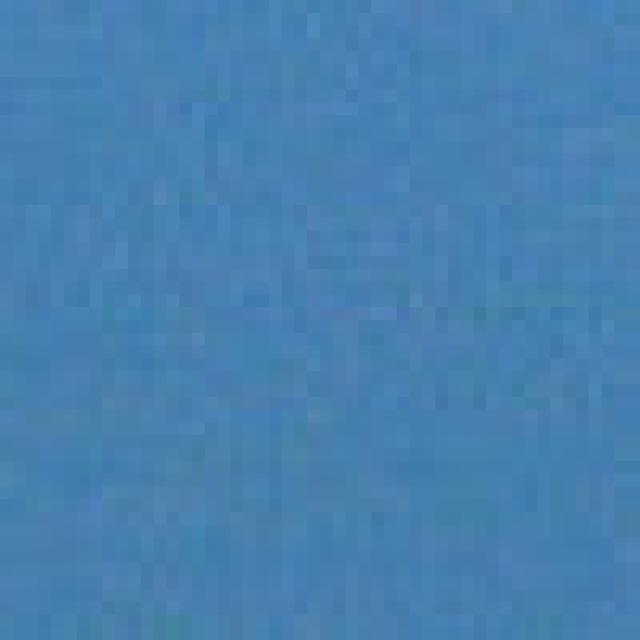no_fire: (4, 14, 640, 612)
